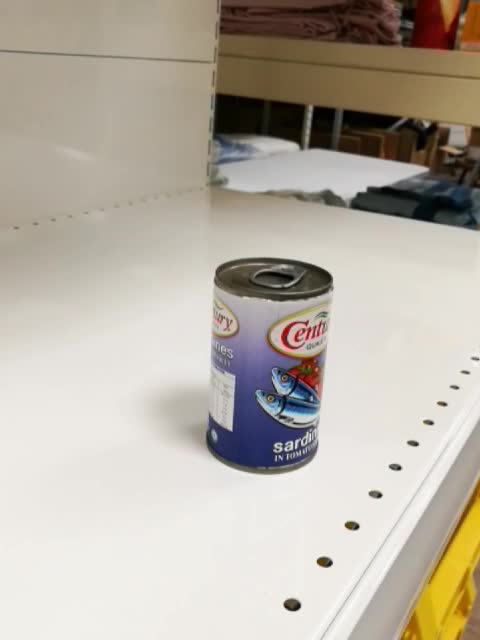sardine: (207, 256, 333, 475)
